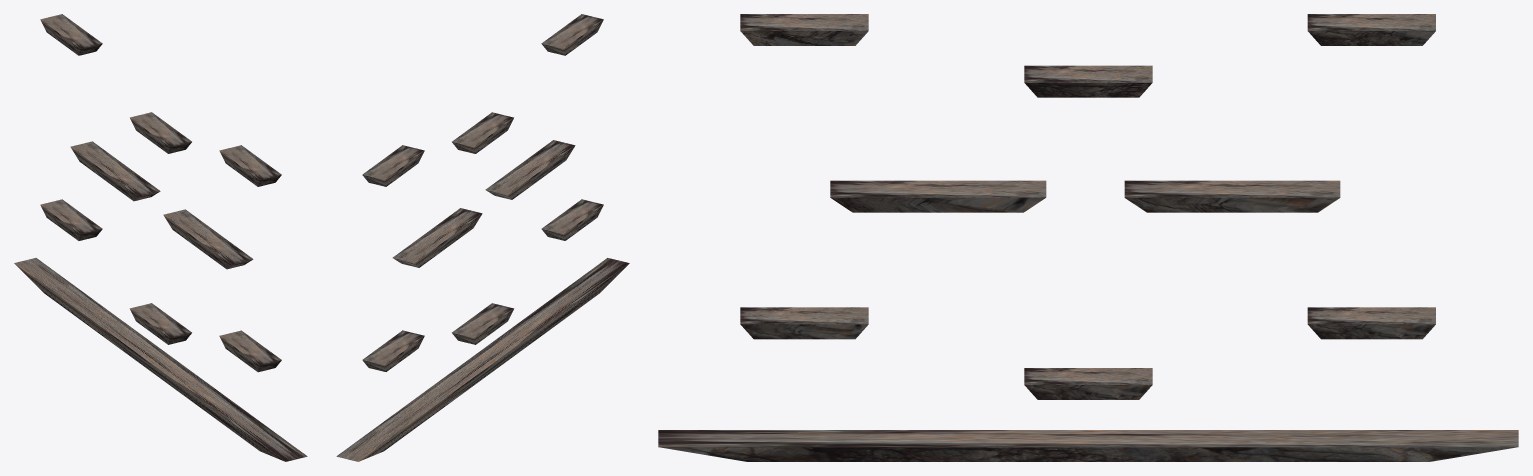
File: Map.fbx
The picture shows the model from 3 angles, left to right: view 1: azimuth 30°, elevation 25°; view 2: azimuth 150°, elevation 25°; view 3: azimuth 270°, elevation 25°; orthographic projection. The views are drawn at different scales.
Visible parts, largest first — view 1: Cube.009, Cube.004, Cube.005, Cube.006, Cube.001, Cube.002, Cube.007, Cube.003, Cube.008; view 2: Cube.009, Cube.005, Cube.004, Cube.007, Cube.003, Cube.006, Cube.008, Cube.001, Cube.002; view 3: Cube.009, Cube.005, Cube.004, Cube.008, Cube.003, Cube.002, Cube.006, Cube.001, Cube.007.
Part boxes in pixels (bbox=[...]): Cube.009: bbox=[14, 258, 307, 461]; Cube.004: bbox=[70, 141, 160, 201]; Cube.005: bbox=[163, 209, 253, 269]; Cube.006: bbox=[219, 145, 281, 186]; Cube.001: bbox=[129, 303, 191, 344]; Cube.002: bbox=[219, 330, 281, 372]; Cube.007: bbox=[40, 14, 102, 55]; Cube.003: bbox=[40, 199, 102, 240]; Cube.008: bbox=[130, 112, 191, 153]; Cube.009: bbox=[336, 258, 629, 461]; Cube.005: bbox=[485, 140, 575, 199]; Cube.004: bbox=[392, 208, 482, 267]; Cube.007: bbox=[362, 145, 424, 186]; Cube.003: bbox=[362, 330, 424, 371]; Cube.006: bbox=[541, 14, 603, 55]; Cube.008: bbox=[452, 112, 513, 153]; Cube.001: bbox=[452, 303, 514, 344]; Cube.002: bbox=[541, 199, 603, 240]; Cube.009: bbox=[658, 430, 1518, 461]; Cube.005: bbox=[830, 180, 1046, 212]; Cube.004: bbox=[1124, 180, 1340, 212]; Cube.008: bbox=[1024, 65, 1152, 97]; Cube.003: bbox=[1307, 307, 1435, 339]; Cube.002: bbox=[740, 307, 868, 339]; Cube.006: bbox=[740, 14, 868, 45]; Cube.001: bbox=[1024, 368, 1152, 399]; Cube.007: bbox=[1307, 14, 1435, 45].
Bounding box in the file's own units: 444 × 5222 × 9410.
